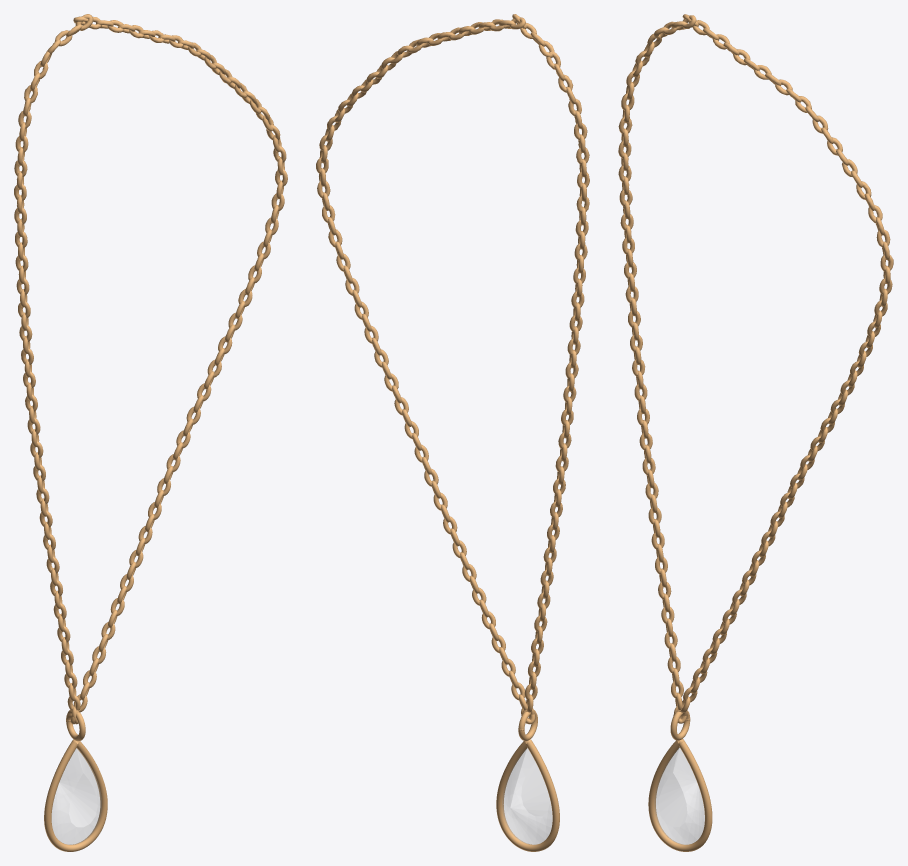
The model's file is necklace-drop.glb.
3 renders of one model, left to right at view 1: azimuth 30°, elevation 25°; view 2: azimuth 150°, elevation 25°; view 3: azimuth 330°, elevation 25°, orthographic.
Parts seen in each view (by area): view 1: metal_chain, diamond, metal_frame; view 2: metal_chain, diamond, metal_frame; view 3: metal_chain, diamond, metal_frame.
Part boxes in pixels (x1,y1,x2,y2): metal_chain: [14, 14, 287, 724]; diamond: [52, 748, 101, 844]; metal_frame: [44, 739, 107, 851]; metal_chain: [316, 14, 589, 724]; diamond: [502, 748, 552, 844]; metal_frame: [496, 739, 559, 851]; metal_chain: [618, 14, 893, 723]; diamond: [654, 747, 704, 844]; metal_frame: [648, 739, 712, 851].
Size of the model in its own units: 31.53 by 92.89 by 5.26.
